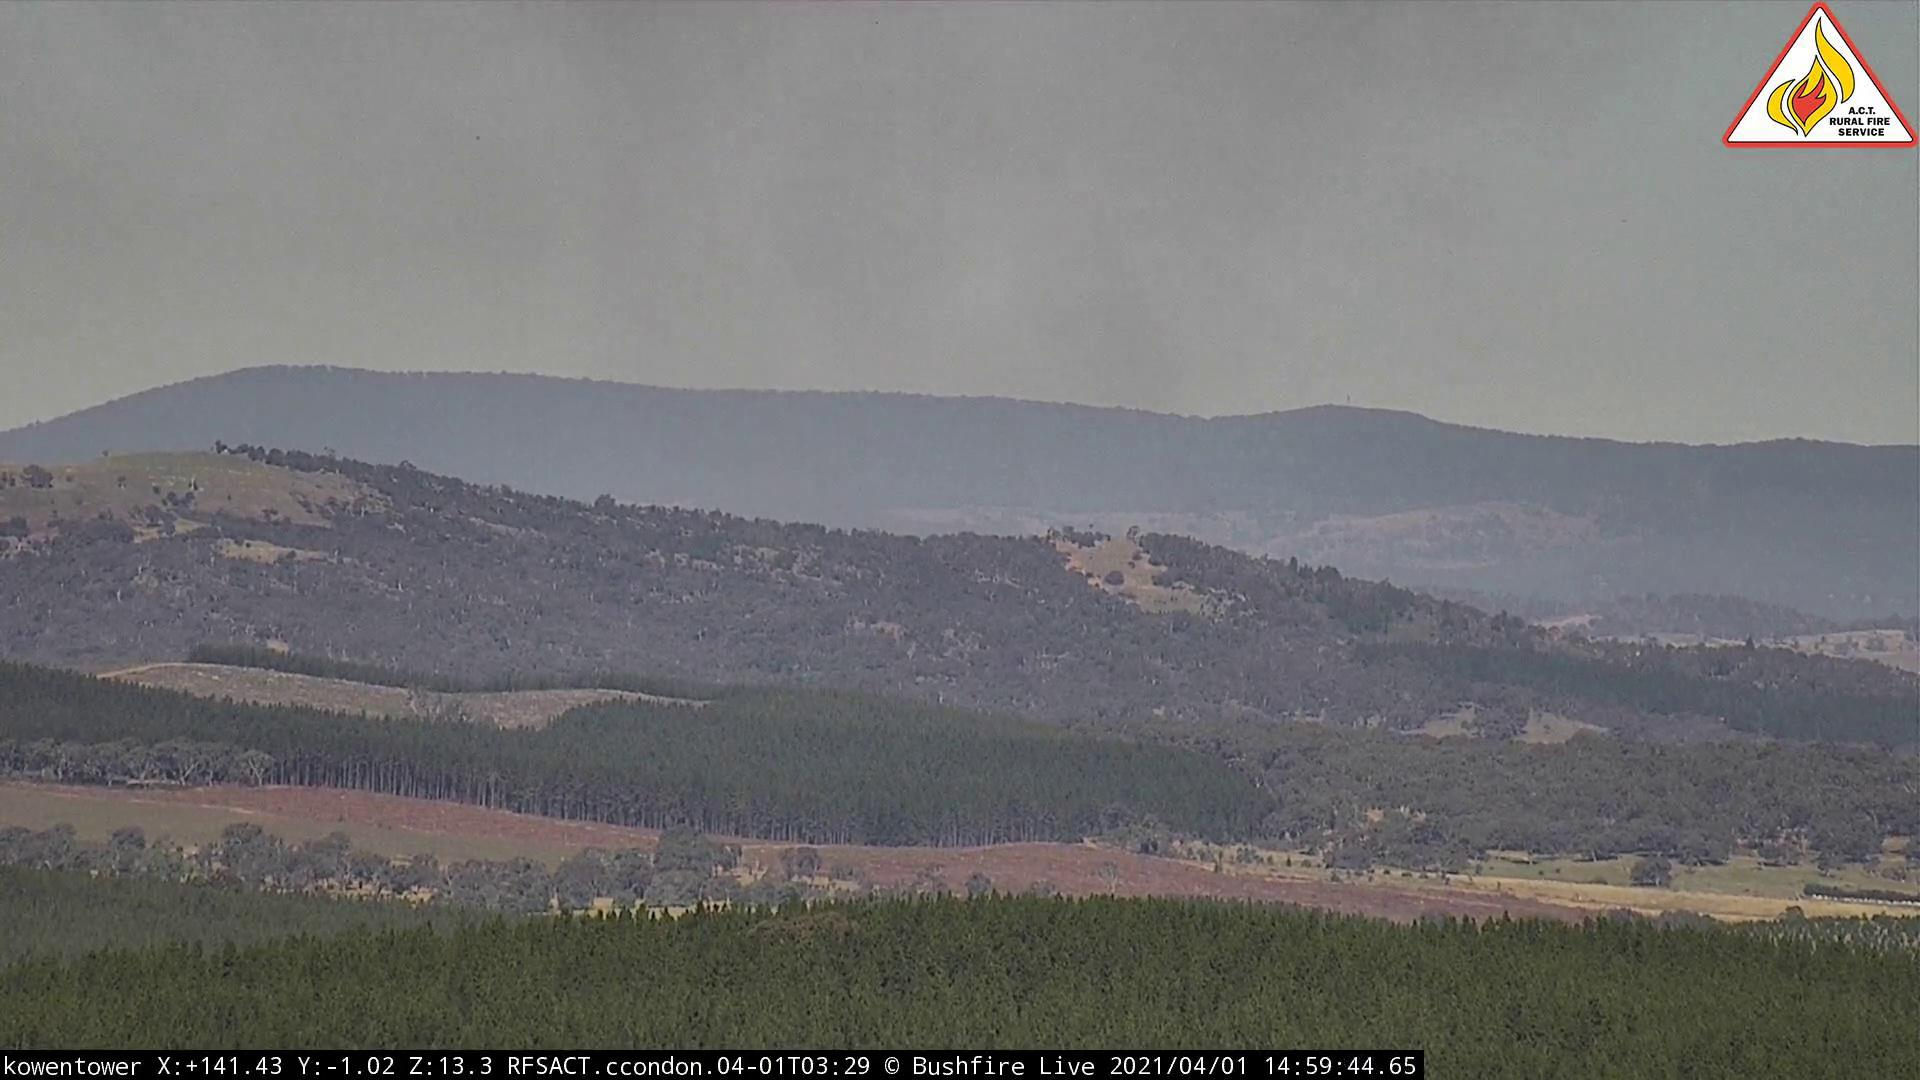Smoke: (401, 3, 1484, 417)
